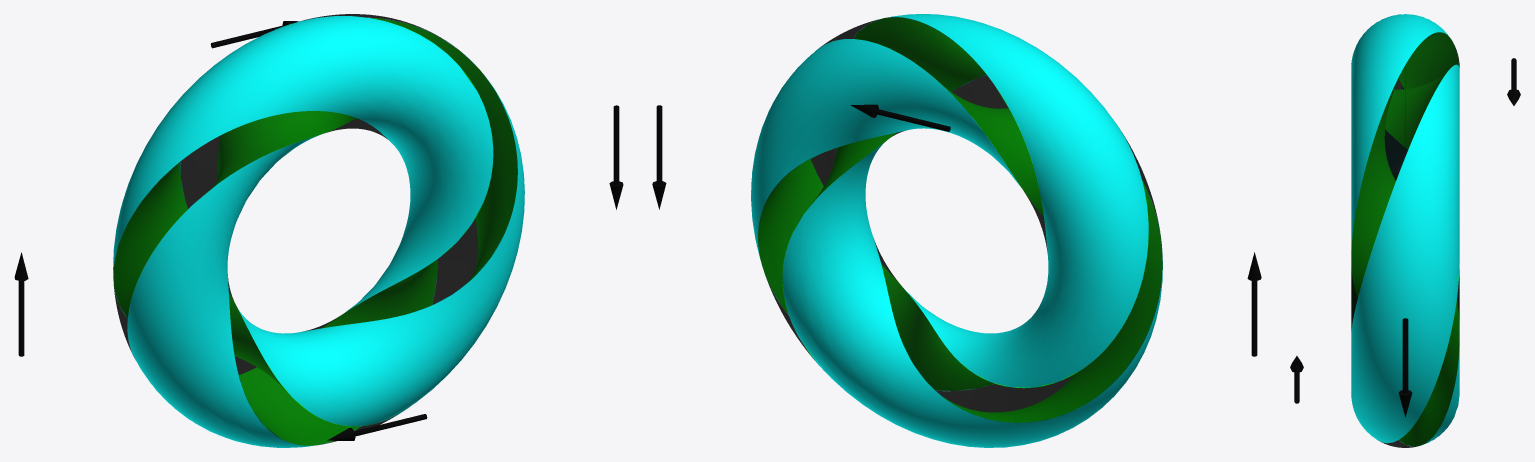
Rendered from UniTorus.GeoGebra_exported.dae.
3 views of the same model, side by side, from view 1: azimuth 30°, elevation 25°; view 2: azimuth 150°, elevation 25°; view 3: azimuth 270°, elevation 25° (orthographic). The views are drawn at different scales.
Visible parts, largest first — view 1: Torus, SplitCover, Torus_2, SplitSection, SplitSection_2, ArrowUp, ArrowDown, ArrowN; view 2: Torus, SplitCover, Torus_2, SplitSection, SplitSection_2, ArrowUp, ArrowDown, ArrowP; view 3: Torus, SplitCover, SplitSection, Torus_2, SplitSection_2, ArrowDown, ArrowP, ArrowN.
Boxes of the visible parts, <box> form: Torus: <box>113,16,524,447</box>; SplitCover: <box>113,14,517,445</box>; Torus_2: <box>113,16,524,447</box>; SplitSection: <box>113,18,517,445</box>; SplitSection_2: <box>115,22,516,444</box>; ArrowUp: <box>14,252,28,356</box>; ArrowDown: <box>609,105,623,209</box>; ArrowN: <box>327,414,427,440</box>; Torus: <box>751,14,1162,447</box>; SplitCover: <box>758,17,1162,422</box>; Torus_2: <box>751,14,1162,447</box>; SplitSection: <box>758,17,1162,422</box>; SplitSection_2: <box>759,18,1161,422</box>; ArrowUp: <box>1247,252,1261,356</box>; ArrowDown: <box>652,105,666,209</box>; ArrowP: <box>850,104,950,131</box>; Torus: <box>1351,14,1459,446</box>; SplitCover: <box>1351,32,1459,447</box>; SplitSection: <box>1351,32,1459,446</box>; Torus_2: <box>1351,14,1459,443</box>; SplitSection_2: <box>1352,33,1458,445</box>; ArrowDown: <box>1398,318,1412,417</box>; ArrowP: <box>1507,58,1520,105</box>; ArrowN: <box>1290,356,1303,403</box>.
Size of the model in its own units: 12.26 by 4.26 by 8.
